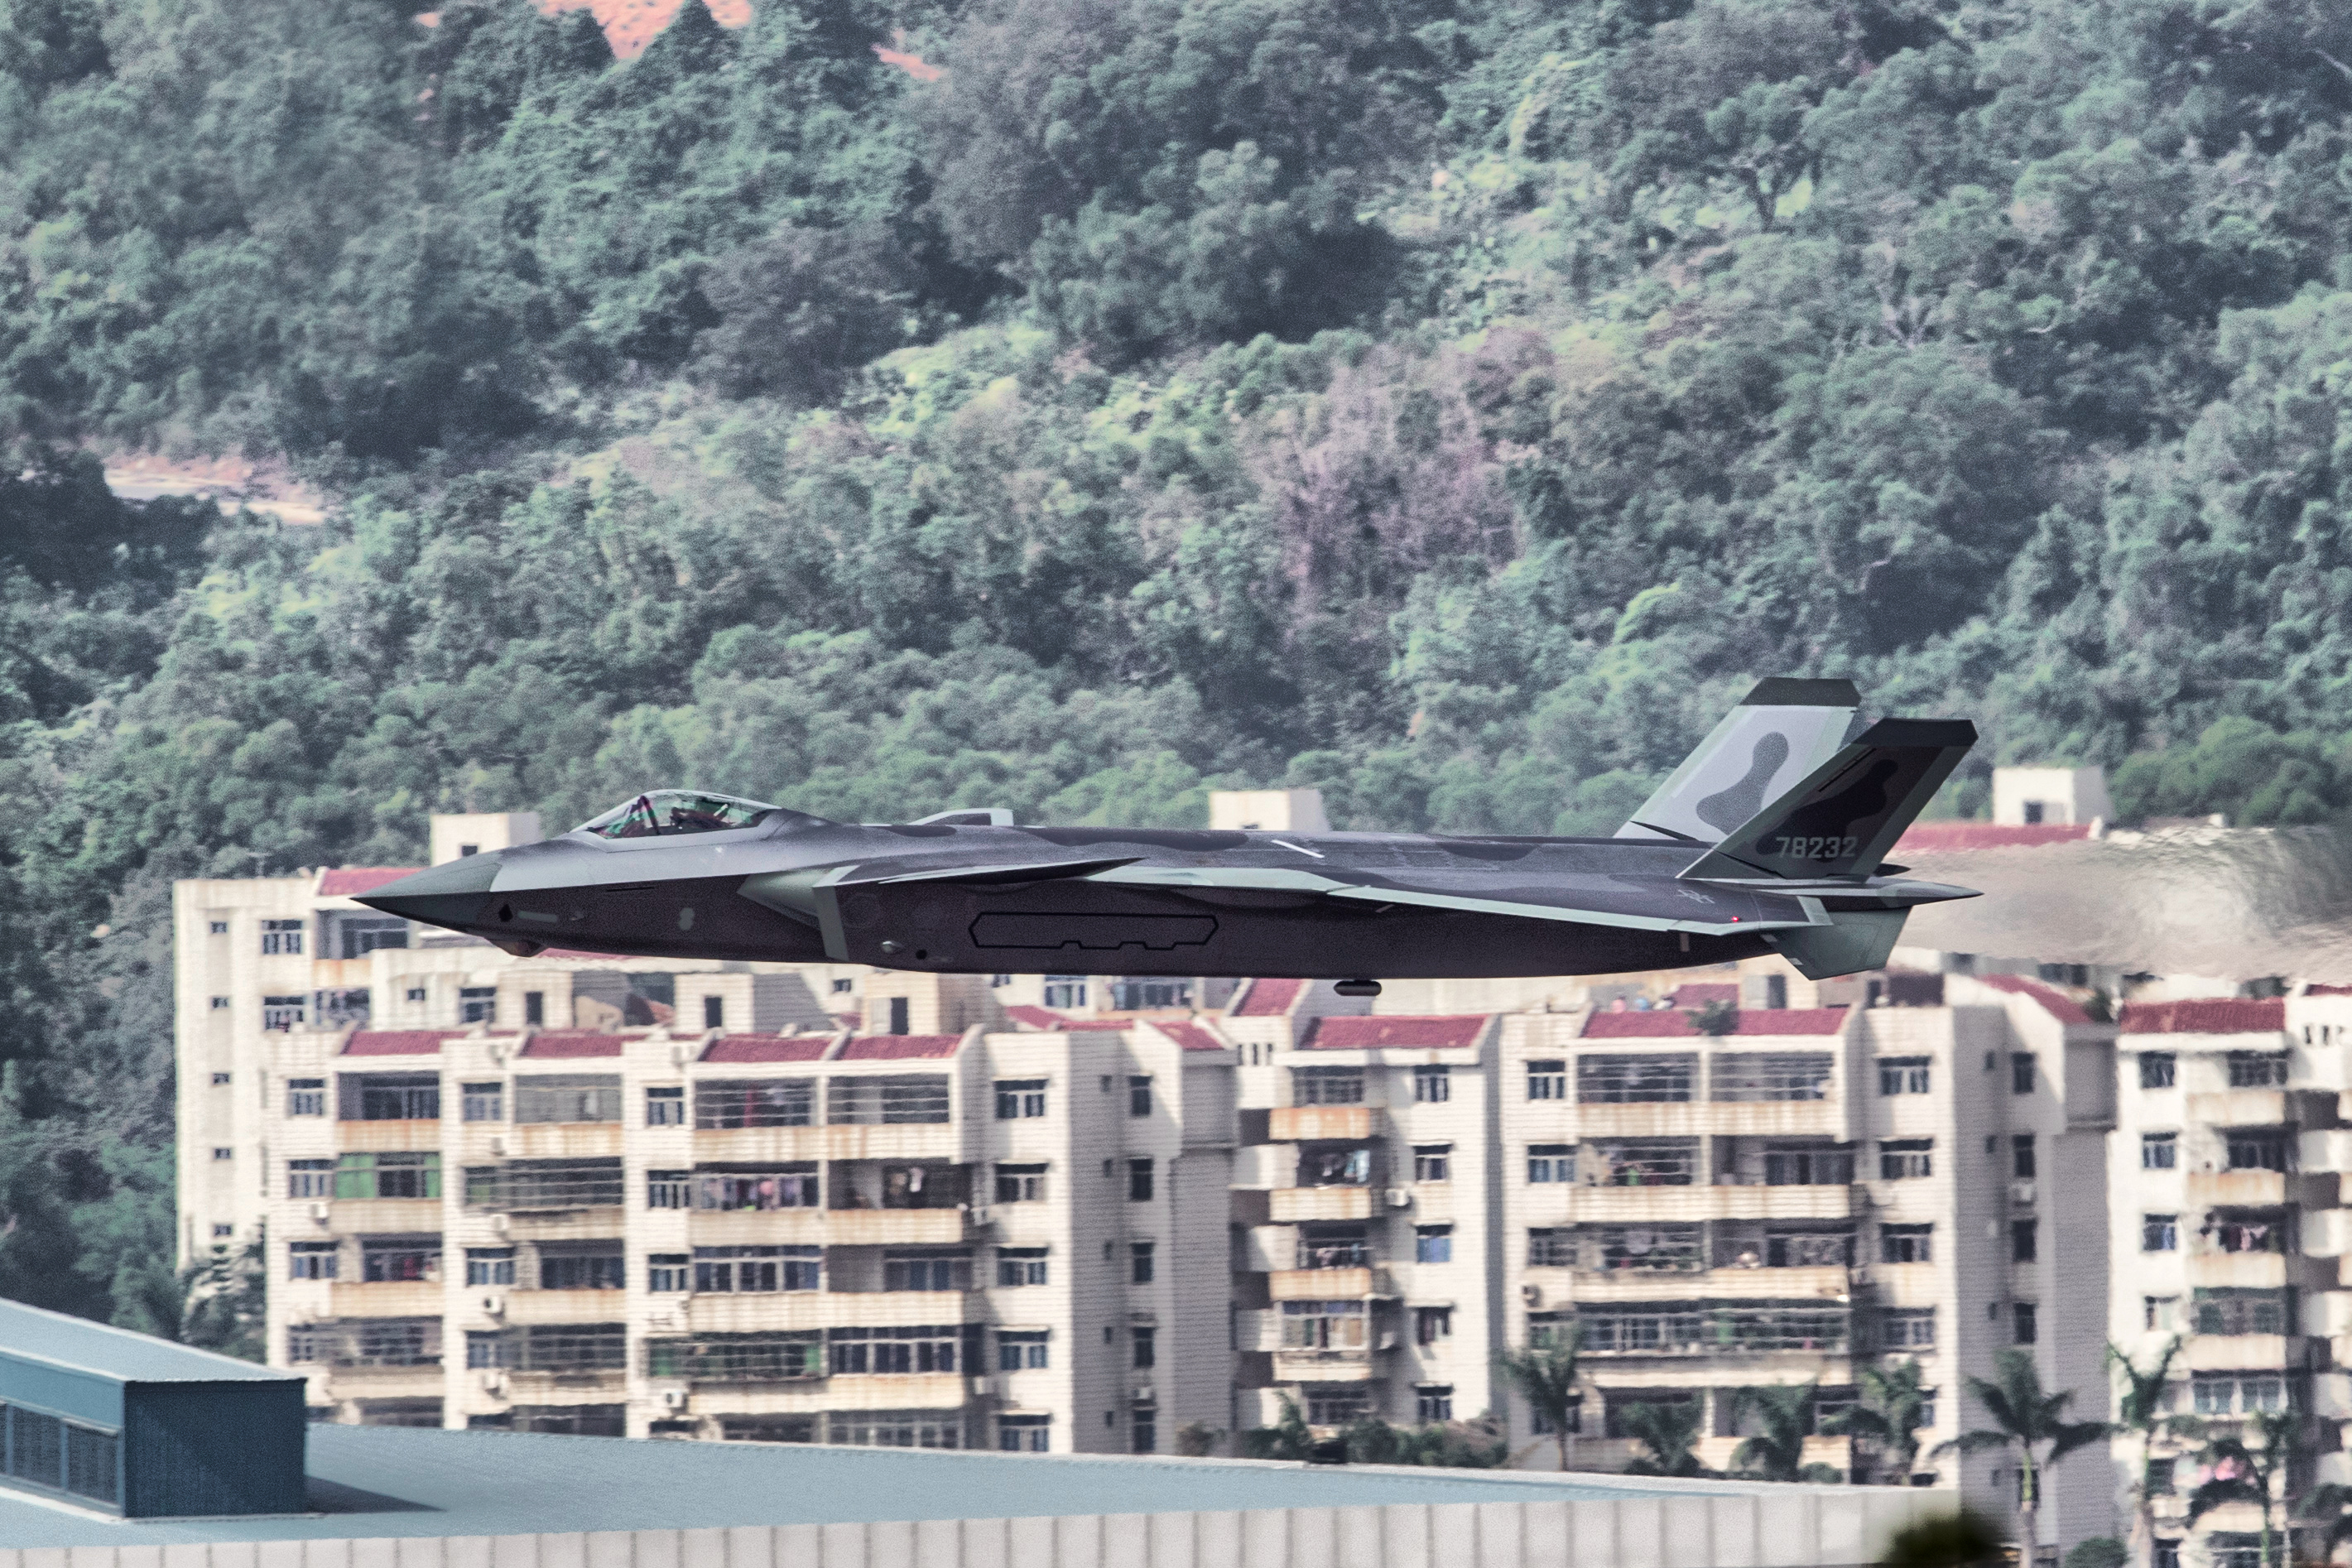J20: (345, 675, 1986, 997)
